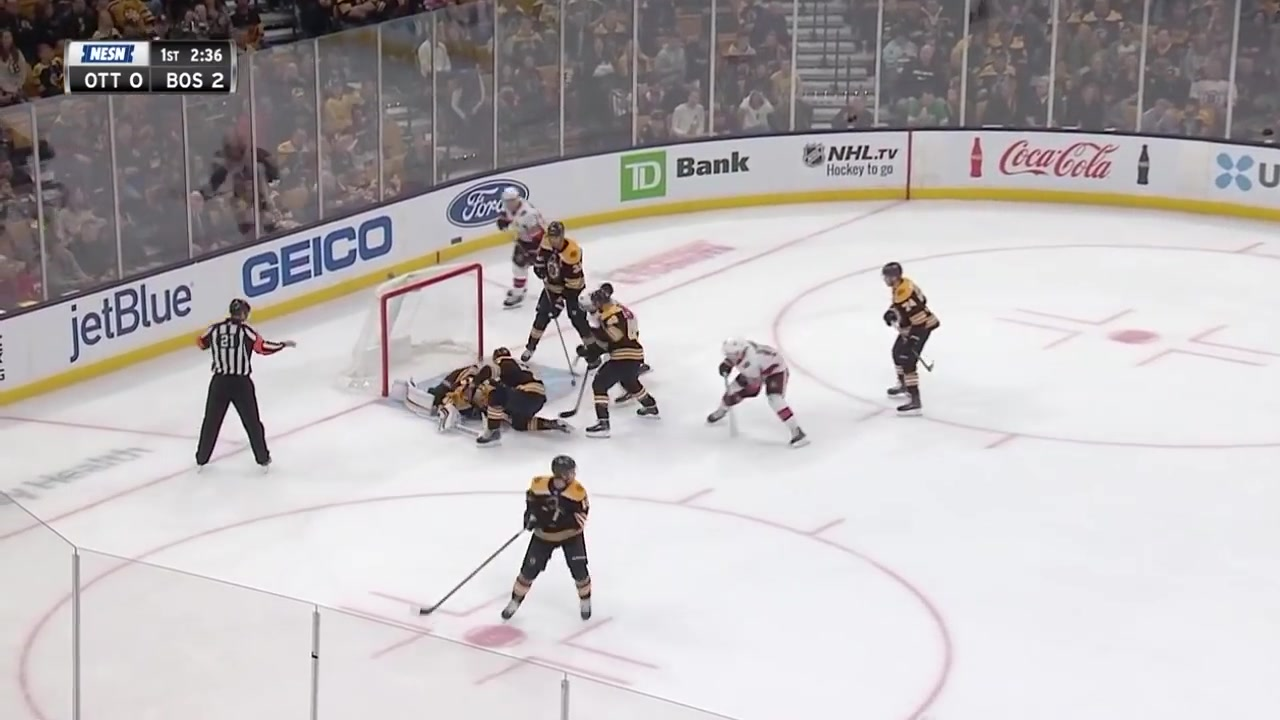Geico: (246, 221, 402, 304)
